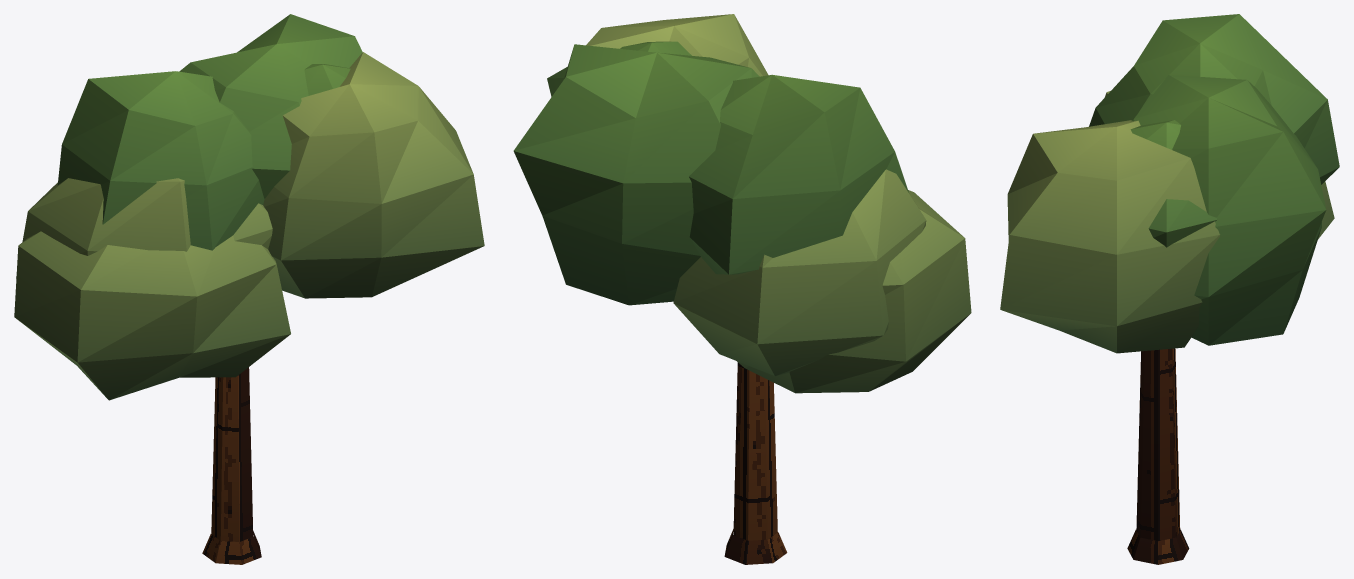
Rendered from oak_1_lowpoly.glb.
3 views of the same model, side by side, from view 1: azimuth 30°, elevation 25°; view 2: azimuth 150°, elevation 25°; view 3: azimuth 270°, elevation 25° (orthographic). The views are drawn at different scales.
Visible parts, largest first — view 1: oak_1_lowpoly; view 2: oak_1_lowpoly; view 3: oak_1_lowpoly.
Part boxes in pixels (x1=…): oak_1_lowpoly: x1=14, y1=14, x2=484, y2=564; oak_1_lowpoly: x1=513, y1=14, x2=971, y2=564; oak_1_lowpoly: x1=1000, y1=14, x2=1339, y2=564.
Bounding box in the file's own units: 5.31 × 6.12 × 3.85.
Materials: 2 (1 with a texture image).
